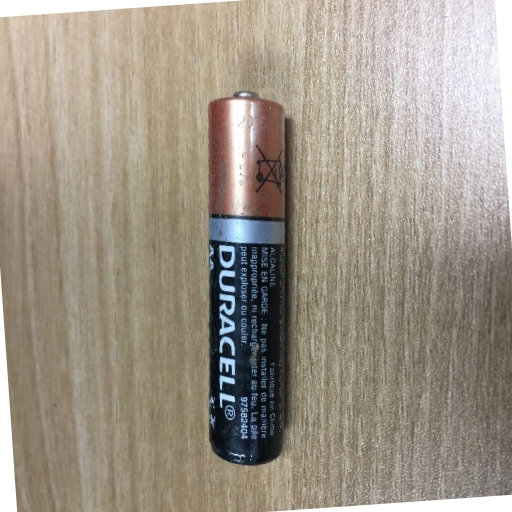Battery_0: (185, 76, 311, 474)
